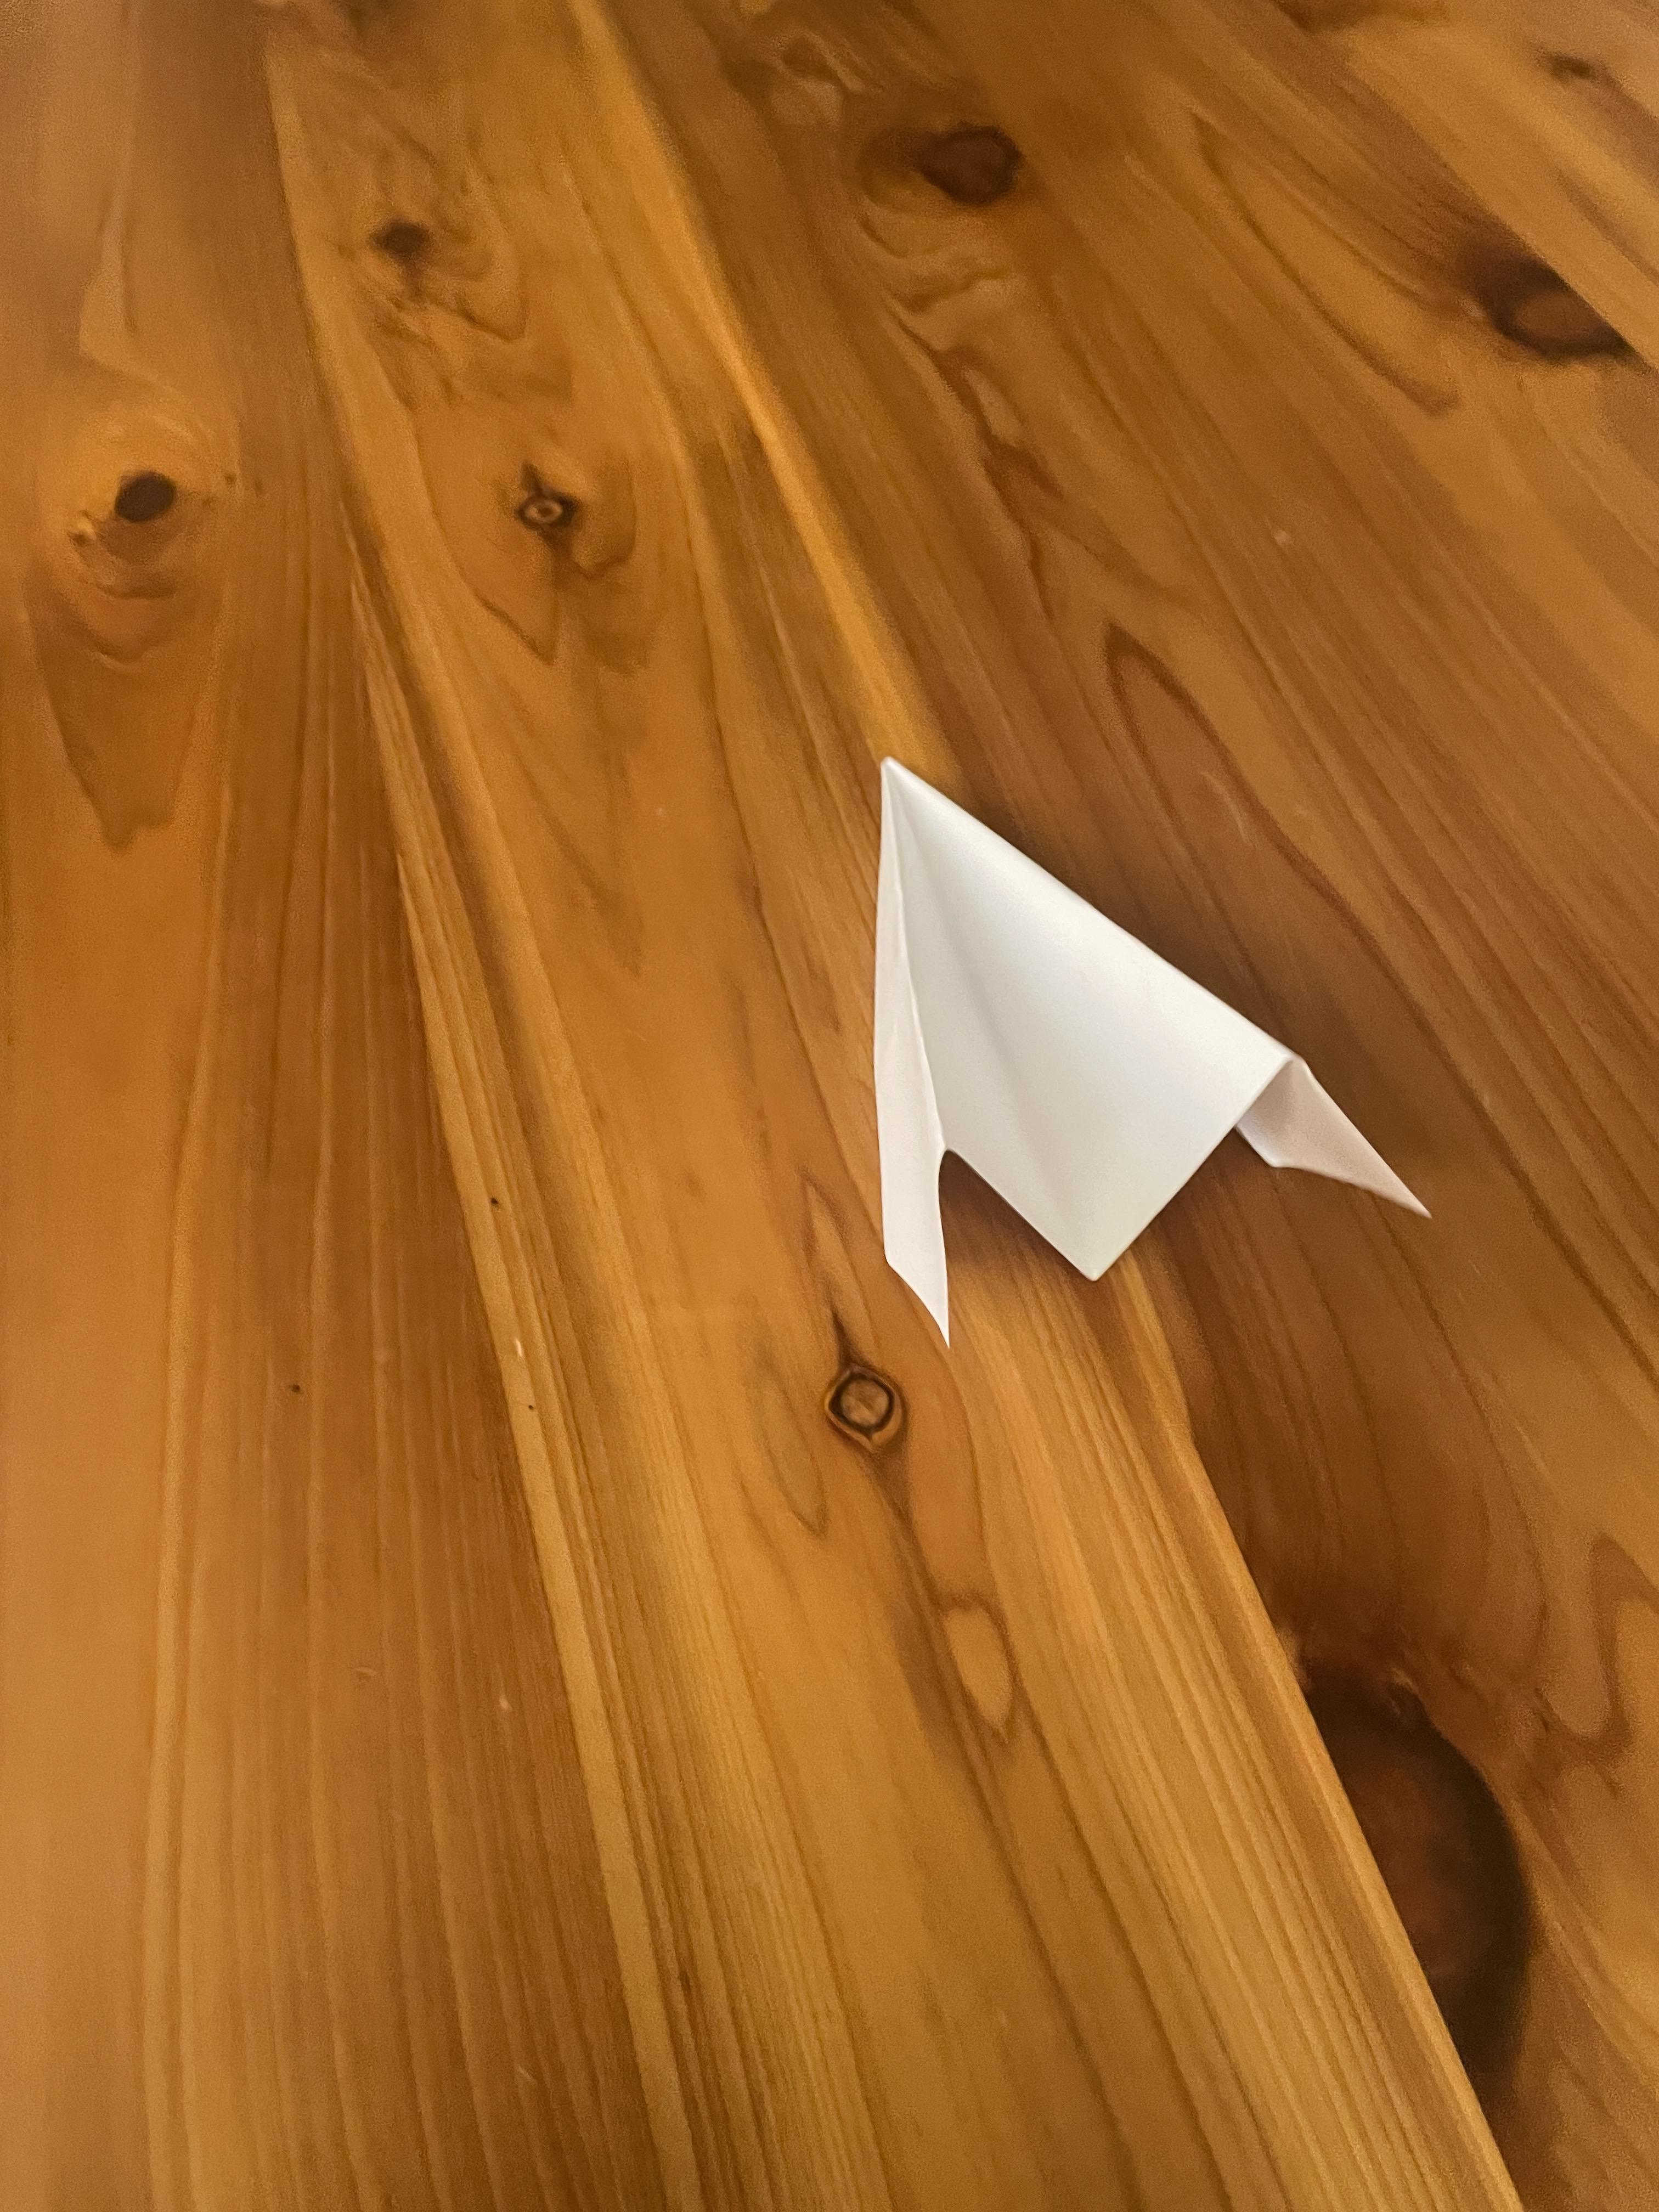shape_3: (718, 709, 1469, 1486)
